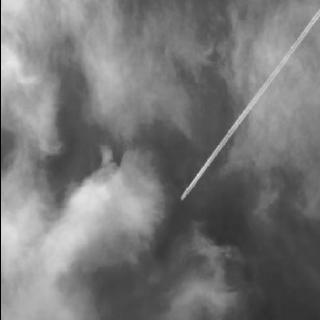Contrails: (177, 0, 320, 203)
